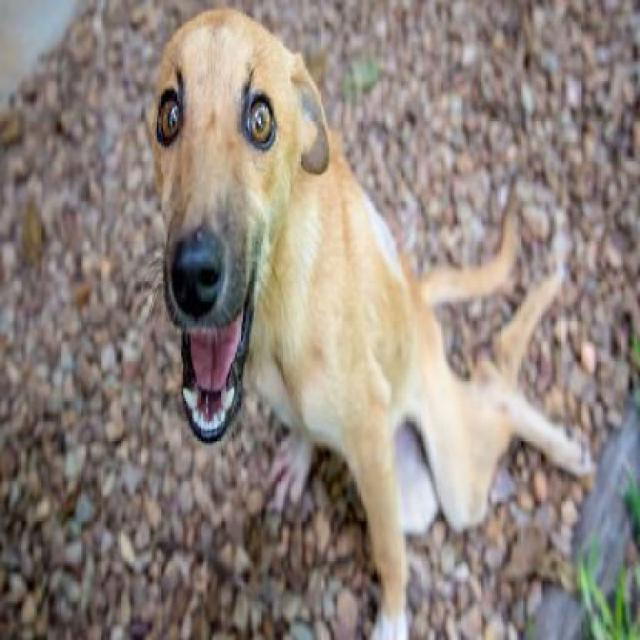dog: (156, 14, 562, 640)
injured: (364, 299, 556, 570)
